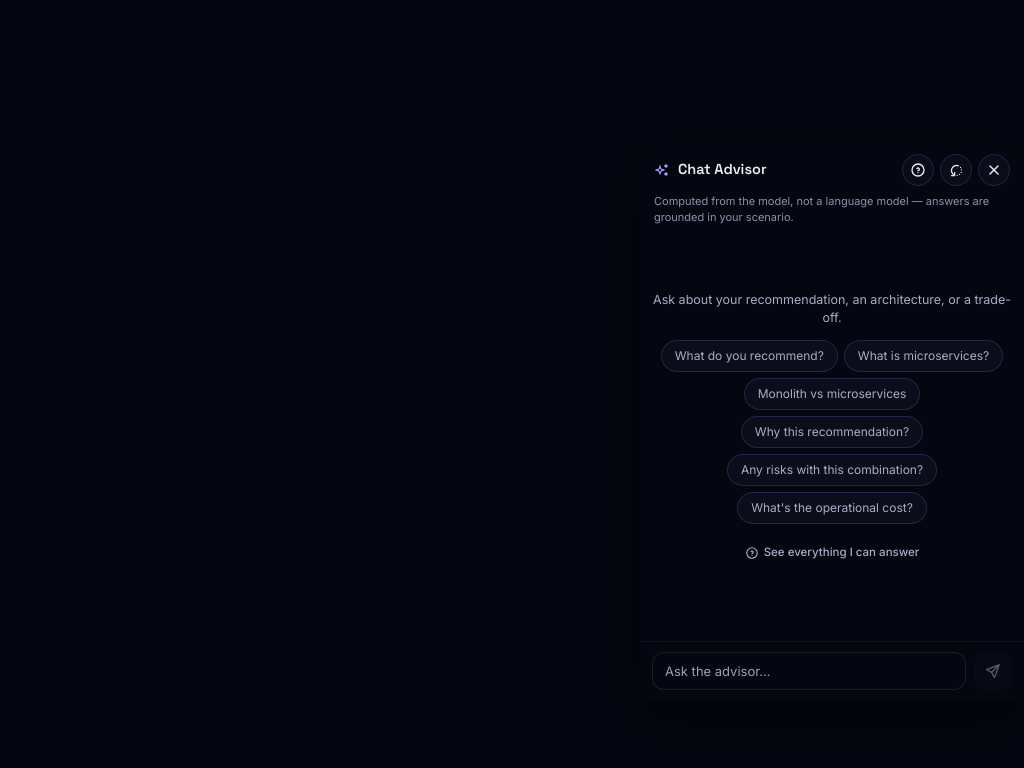
Test: ChatPanel — the capability browser is discoverable without prior knowledge › leads with "How to use this", ahead of the question topics
The image size is (1024, 768).
Click the button "See everything I can answer" at x=832, y=553, box [652,536,1012,570]
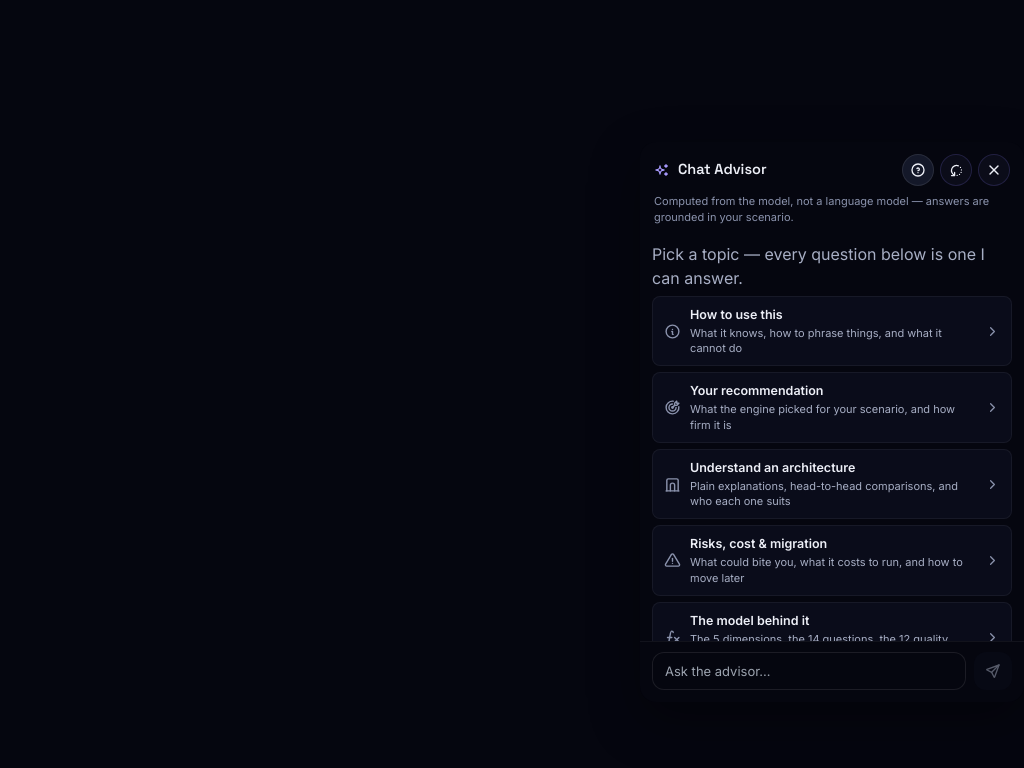
Result: the text with class "aa-chat-topic-label" reads "How to use this" at [690,307,783,322]
